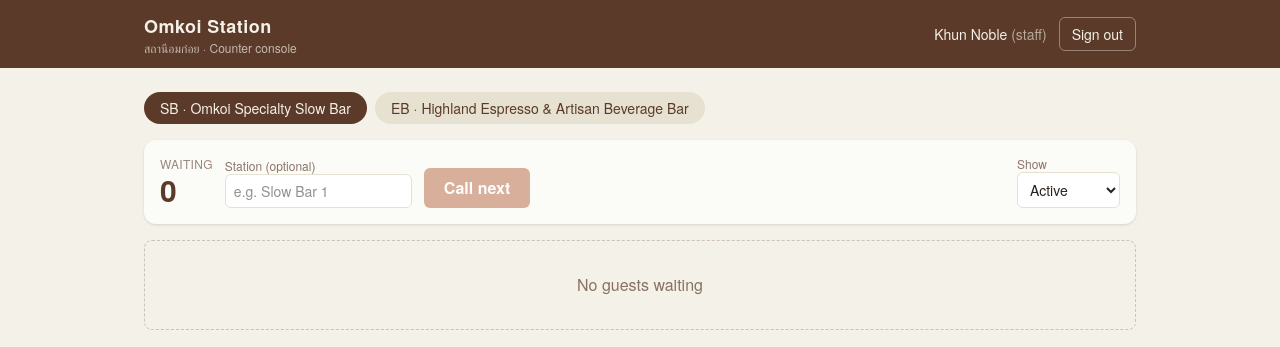
Scenario: TEST-14 / AC-10, NFR-05: staff counter console (component, mocked API) › loads the other counter's queue as soon as its tab is chosen
Expected: the text "No guests waiting" is shown, top-left (144, 240), bottom-right (1136, 330)
Click the tab "EB · Highland Espresso & Artisan Beverage Bar".
click(540, 108)  # box top-left (375, 92), bottom-right (705, 124)
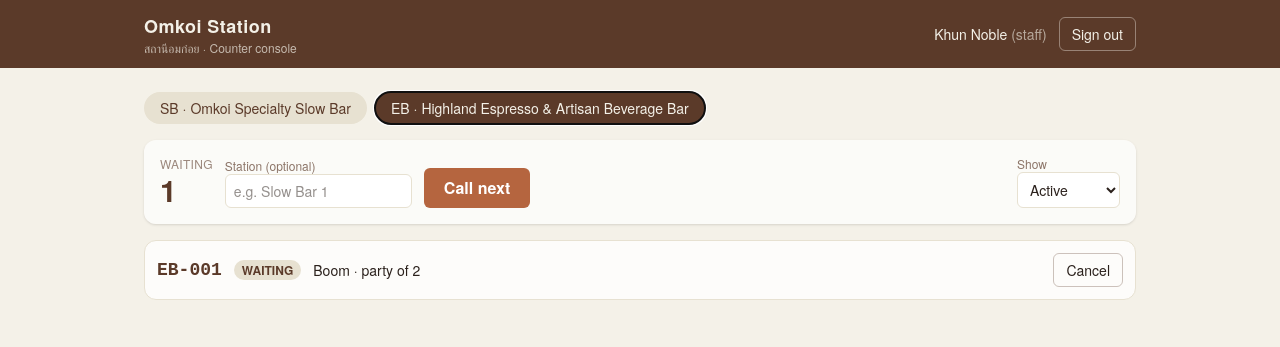
Result: the list item with aria-label "Ticket EB-001" is shown at top-left (144, 240), bottom-right (1136, 300)
Result: the text named "Waiting count" reads "1" at top-left (160, 168), bottom-right (177, 211)
